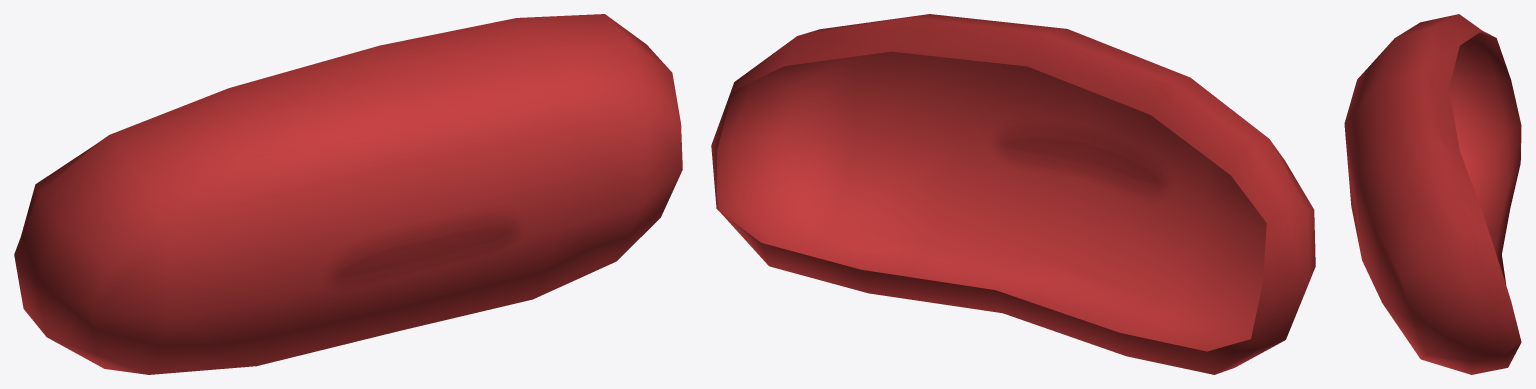
File: SM_mask10.fbx
3 views of the same model, side by side, from view 1: azimuth 30°, elevation 25°; view 2: azimuth 150°, elevation 25°; view 3: azimuth 270°, elevation 25° (orthographic). The views are drawn at different scales.
Visible parts, largest first — view 1: mask10; view 2: mask10; view 3: mask10.
Part boxes in pixels (bbox=[...]): mask10: bbox=[14, 14, 682, 374]; mask10: bbox=[711, 14, 1315, 374]; mask10: bbox=[1344, 14, 1521, 374].
Size of the model in its own units: 9.48 by 4.22 by 3.03.
